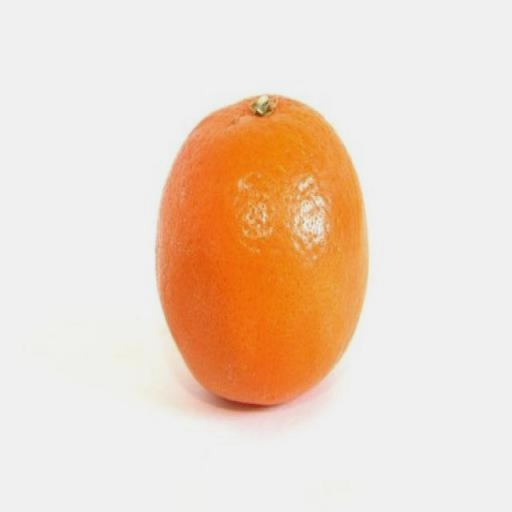fruit: (156, 96, 367, 404)
